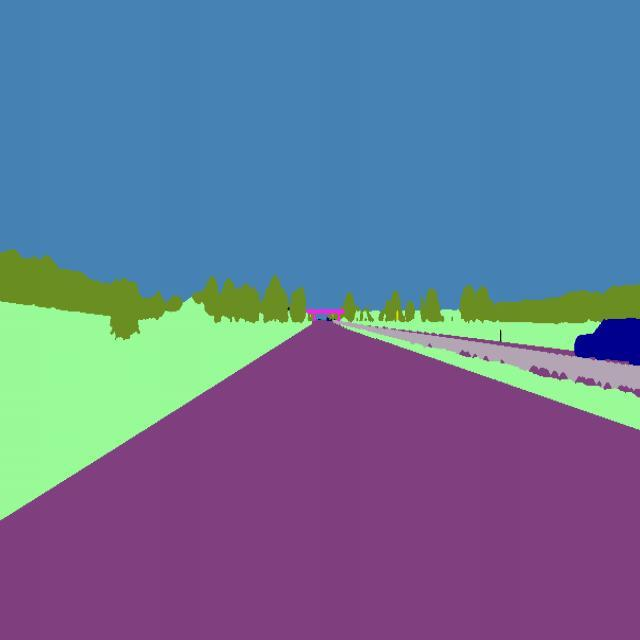safe: (573, 313, 640, 373)
